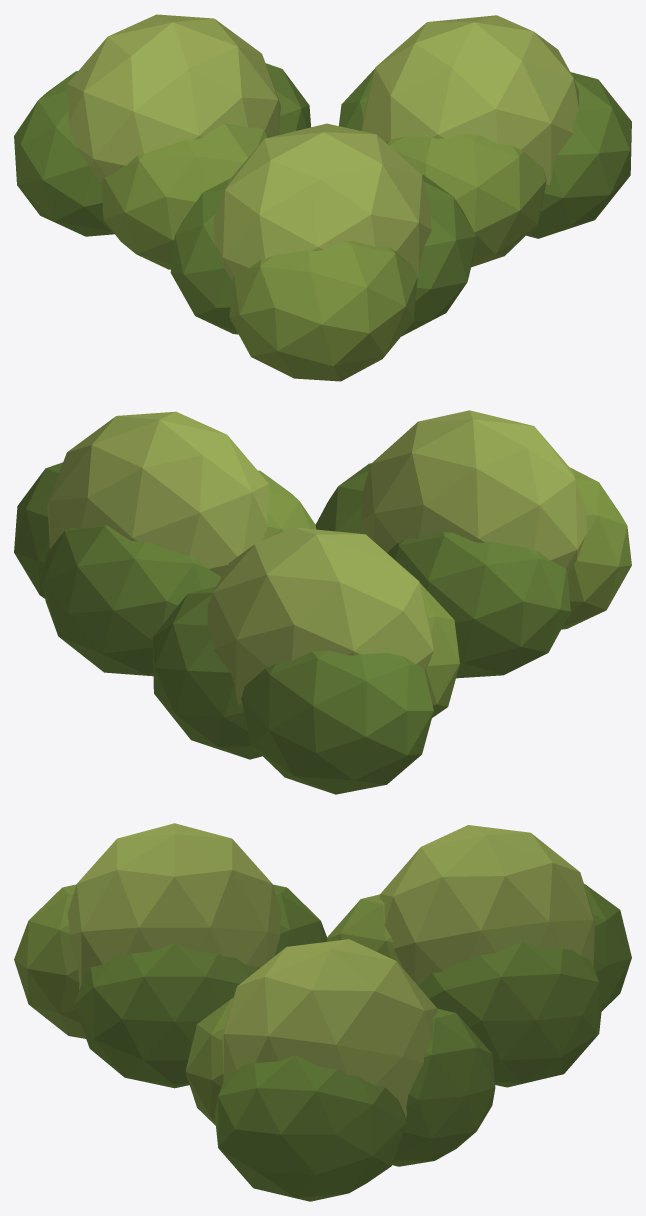
Rendered from pile-lettuce-3.gltf.
The picture shows the model from 3 angles, top to bottom: view 1: azimuth 30°, elevation 25°; view 2: azimuth 150°, elevation 25°; view 3: azimuth 270°, elevation 25°; orthographic projection. The views are drawn at different scales.
Visible parts, largest first — view 1: pile-lettuce-3; view 2: pile-lettuce-3; view 3: pile-lettuce-3.
Boxes of the visible parts, left/top/right/bottom form: pile-lettuce-3: left=14, top=14, right=631, bottom=381; pile-lettuce-3: left=14, top=410, right=631, bottom=794; pile-lettuce-3: left=14, top=823, right=631, bottom=1201.
Size of the model in its own units: 0.5767 by 0.2384 by 0.6175.
